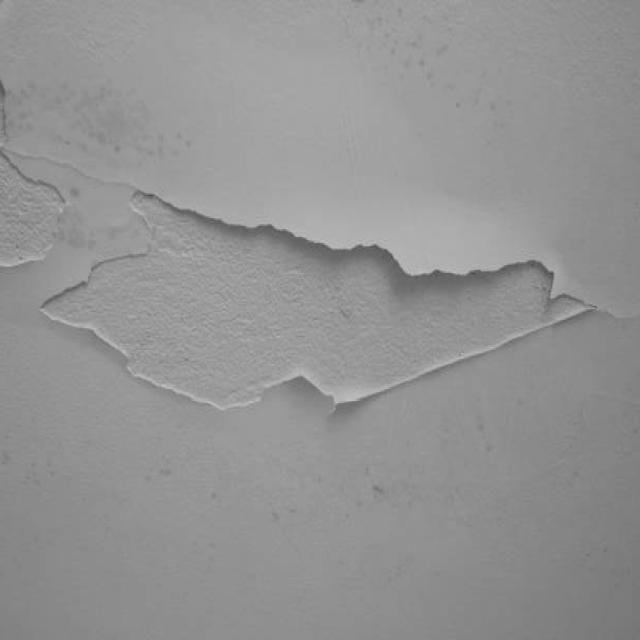peeling paint: (0, 77, 639, 431)
